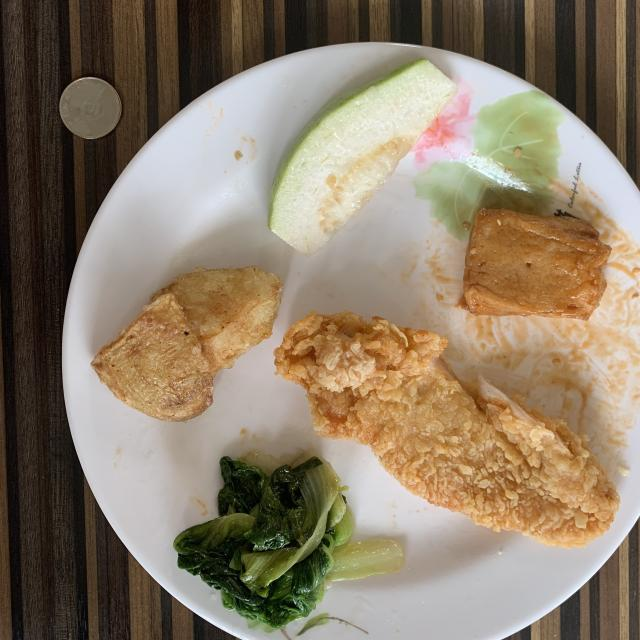coin: (59, 78, 121, 139)
creamy tofu: (461, 209, 611, 320)
fried chicken cutlet: (275, 311, 619, 548)
fried potato: (91, 266, 282, 421)
guava -sliced-: (269, 59, 458, 256)
mustard greens: (174, 454, 404, 628)
